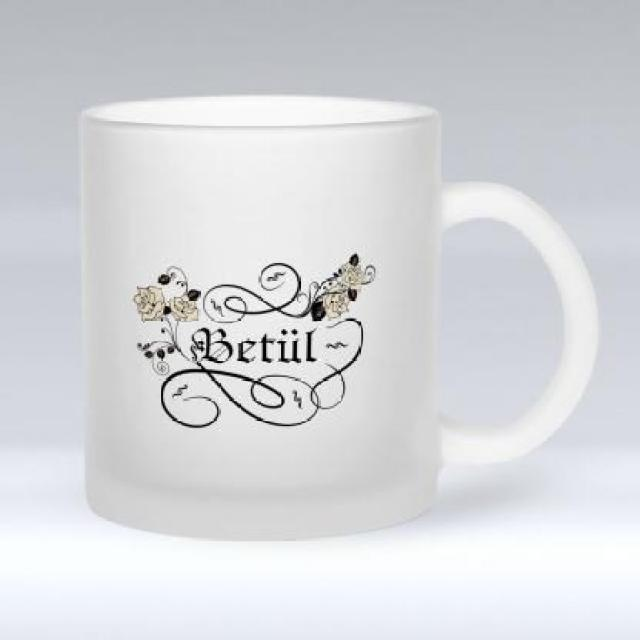taza: (80, 91, 602, 544)
